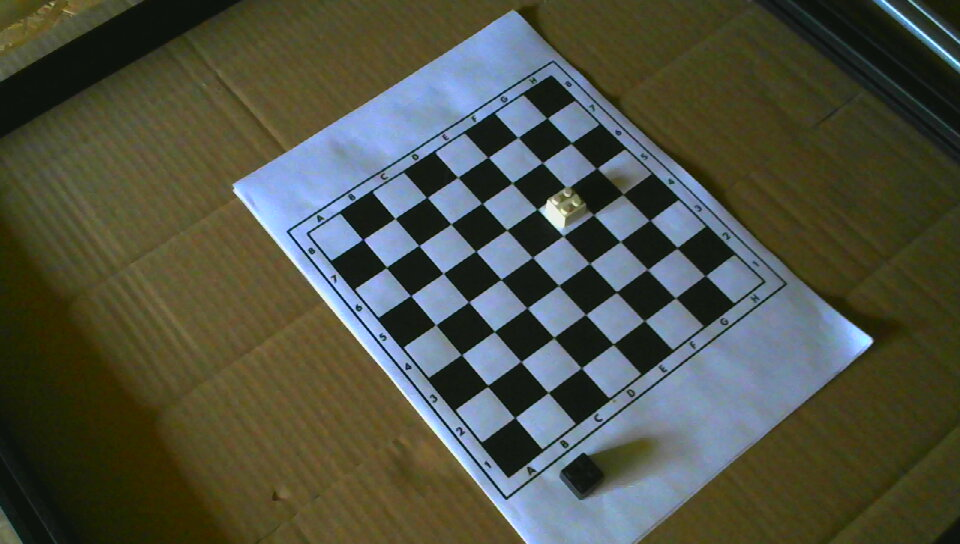bp: (559, 451, 605, 500)
wp: (545, 187, 588, 228)
